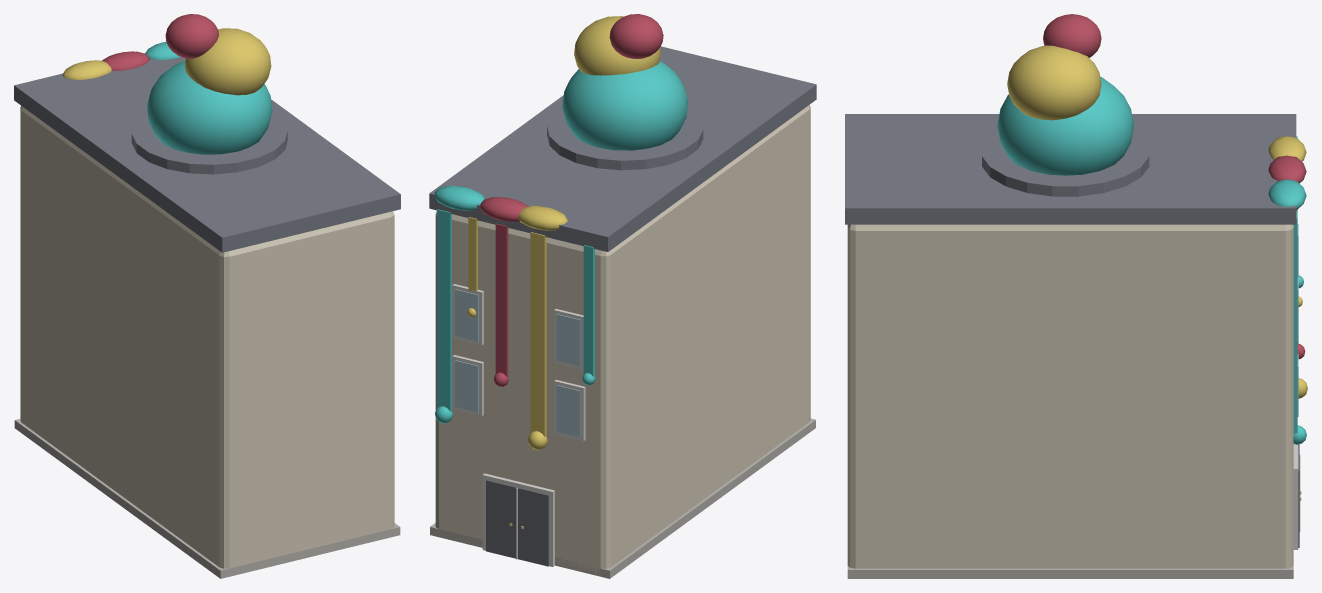
File: centro-paint-09b74712.glb
3 renders of one model, left to right at view 1: azimuth 30°, elevation 25°; view 2: azimuth 150°, elevation 25°; view 3: azimuth 270°, elevation 25°, orthographic. The views are drawn at different scales.
Bounding box in the file's own units: 6.9 × 17.17 × 14.22.
